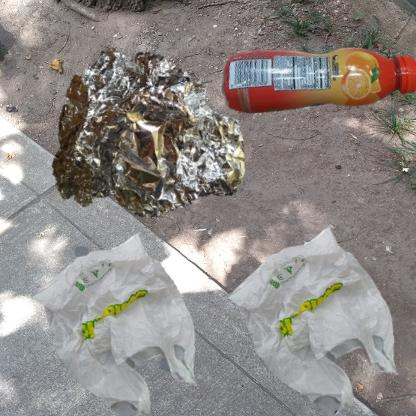aluminio: (10, 10, 290, 287)
bolsa: (10, 213, 229, 416), (213, 213, 416, 416)
botella: (213, 10, 416, 173)
